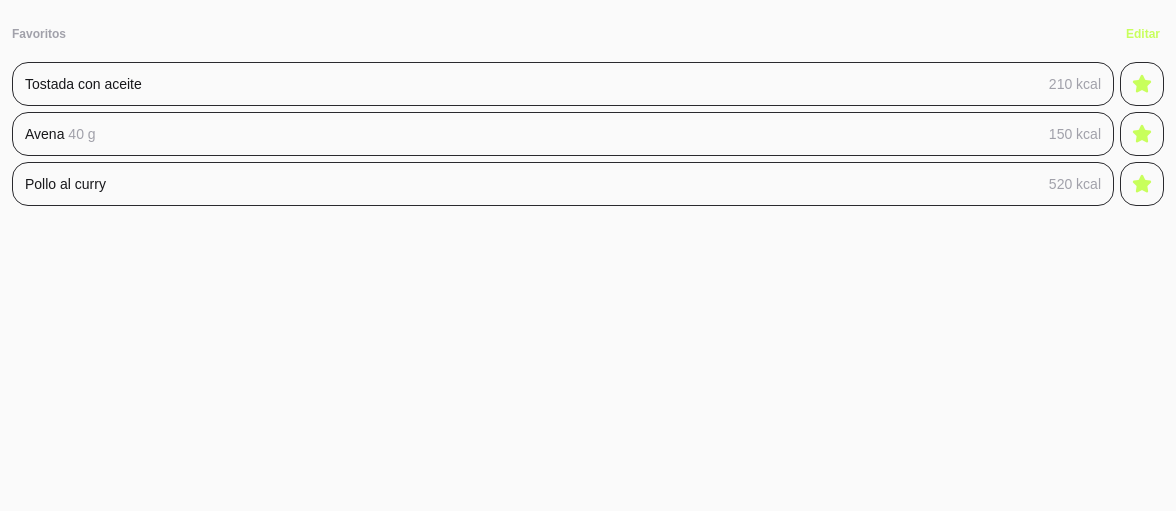
Test: «Editar»: lista completa y lápices (R4, R12) › R4: con el nombre de otra favorita sale «Ya tienes un favorito con ese nombre» y no se guarda
Click the button "Editar" at (1143, 34), box [1122,12,1164,56]
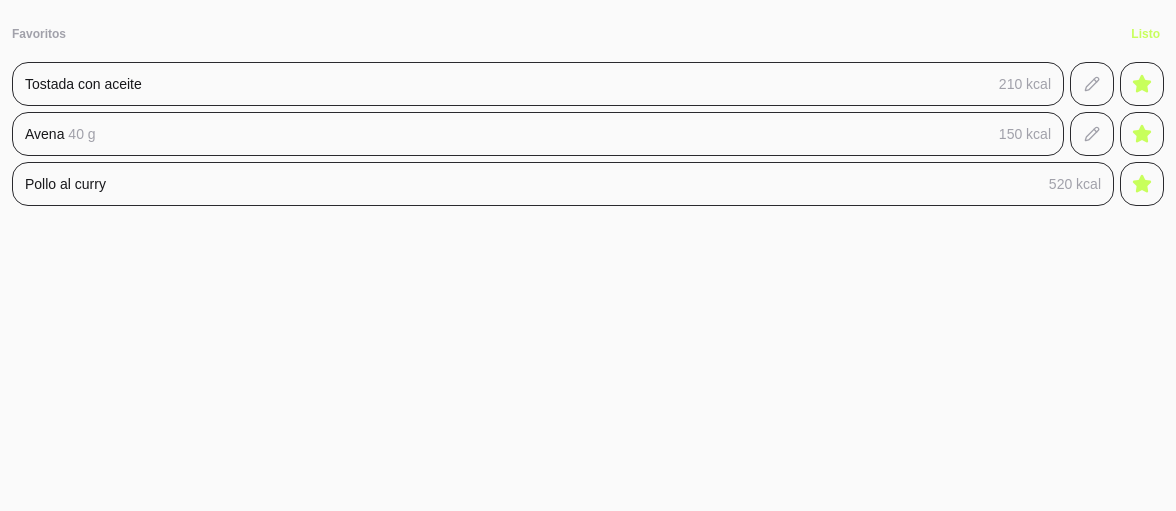
Click the button named "Editar Tostada con aceite" at (1092, 84), box [1070,62,1114,106]
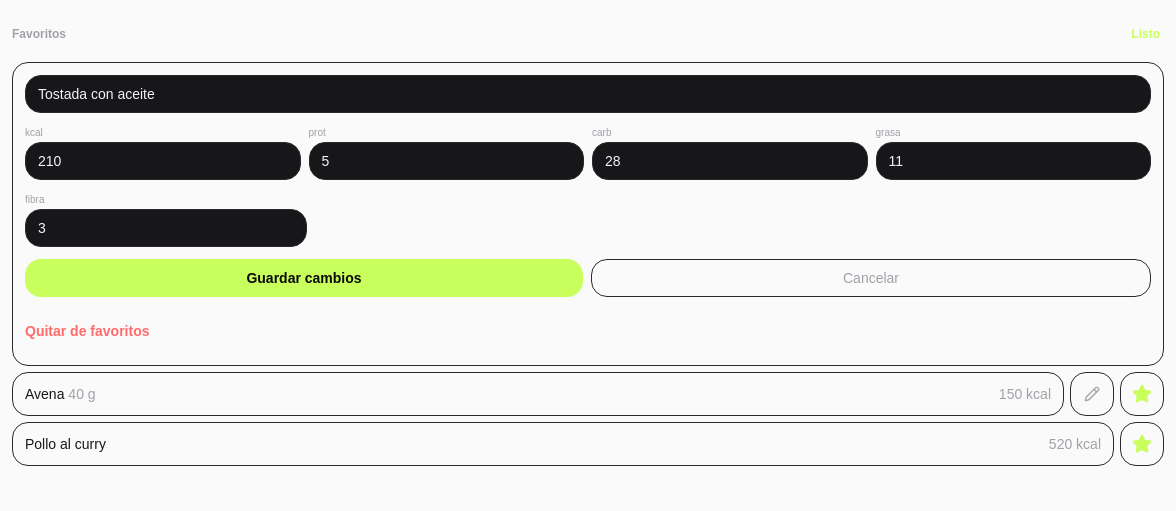
Replace the text in the field with placeholder "Nombre" with "Tortilla francesa" at (588, 94), box [25,75,1151,113]
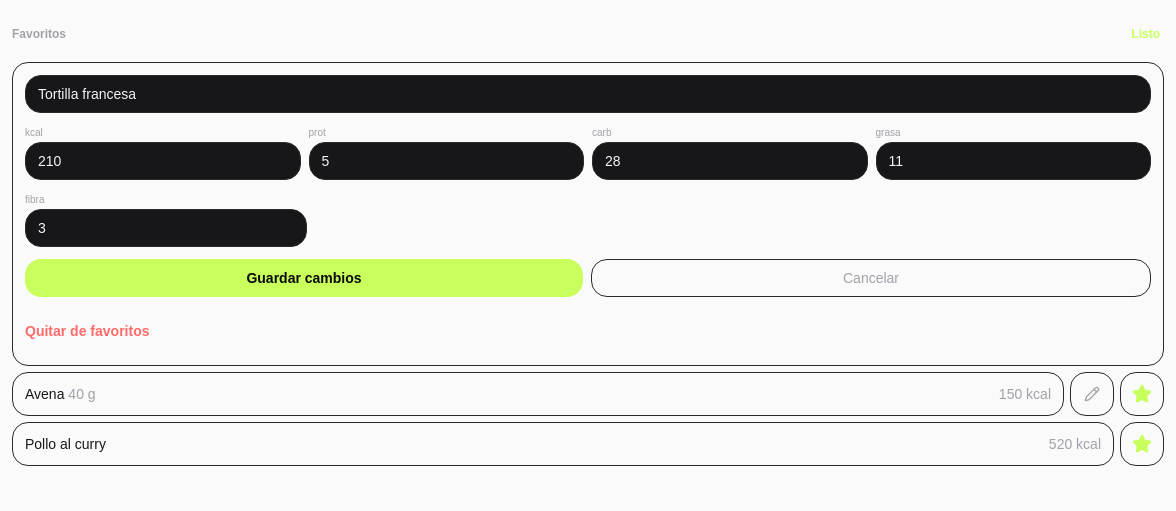
Click the button "Guardar cambios" at (304, 278), box [25,259,583,297]
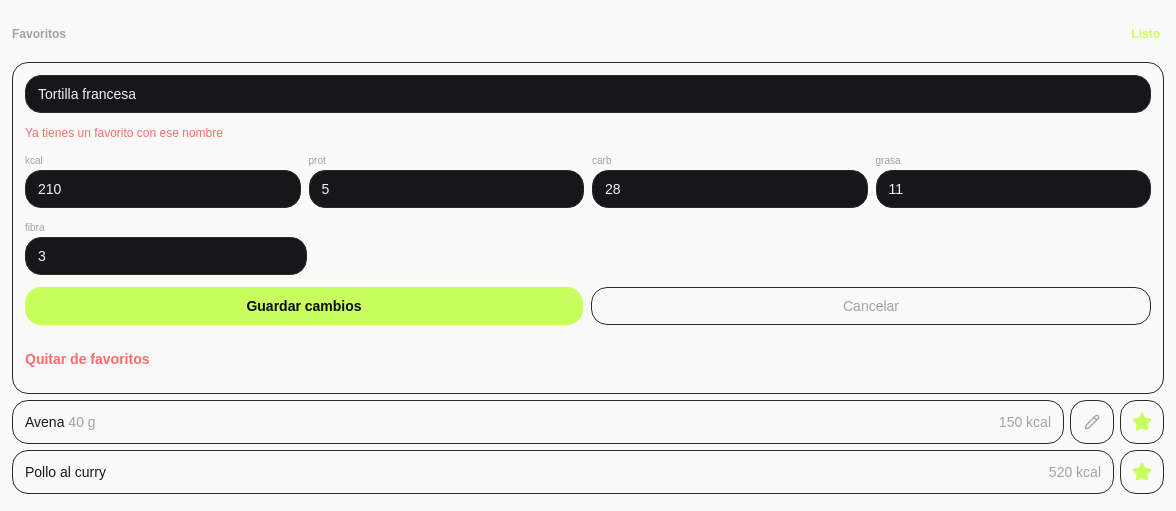
Now the message reads "Ya tienes un favorito con ese nombre", box [25,126,223,140]
